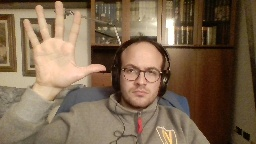Mano_aperta: (21, 0, 108, 87)
